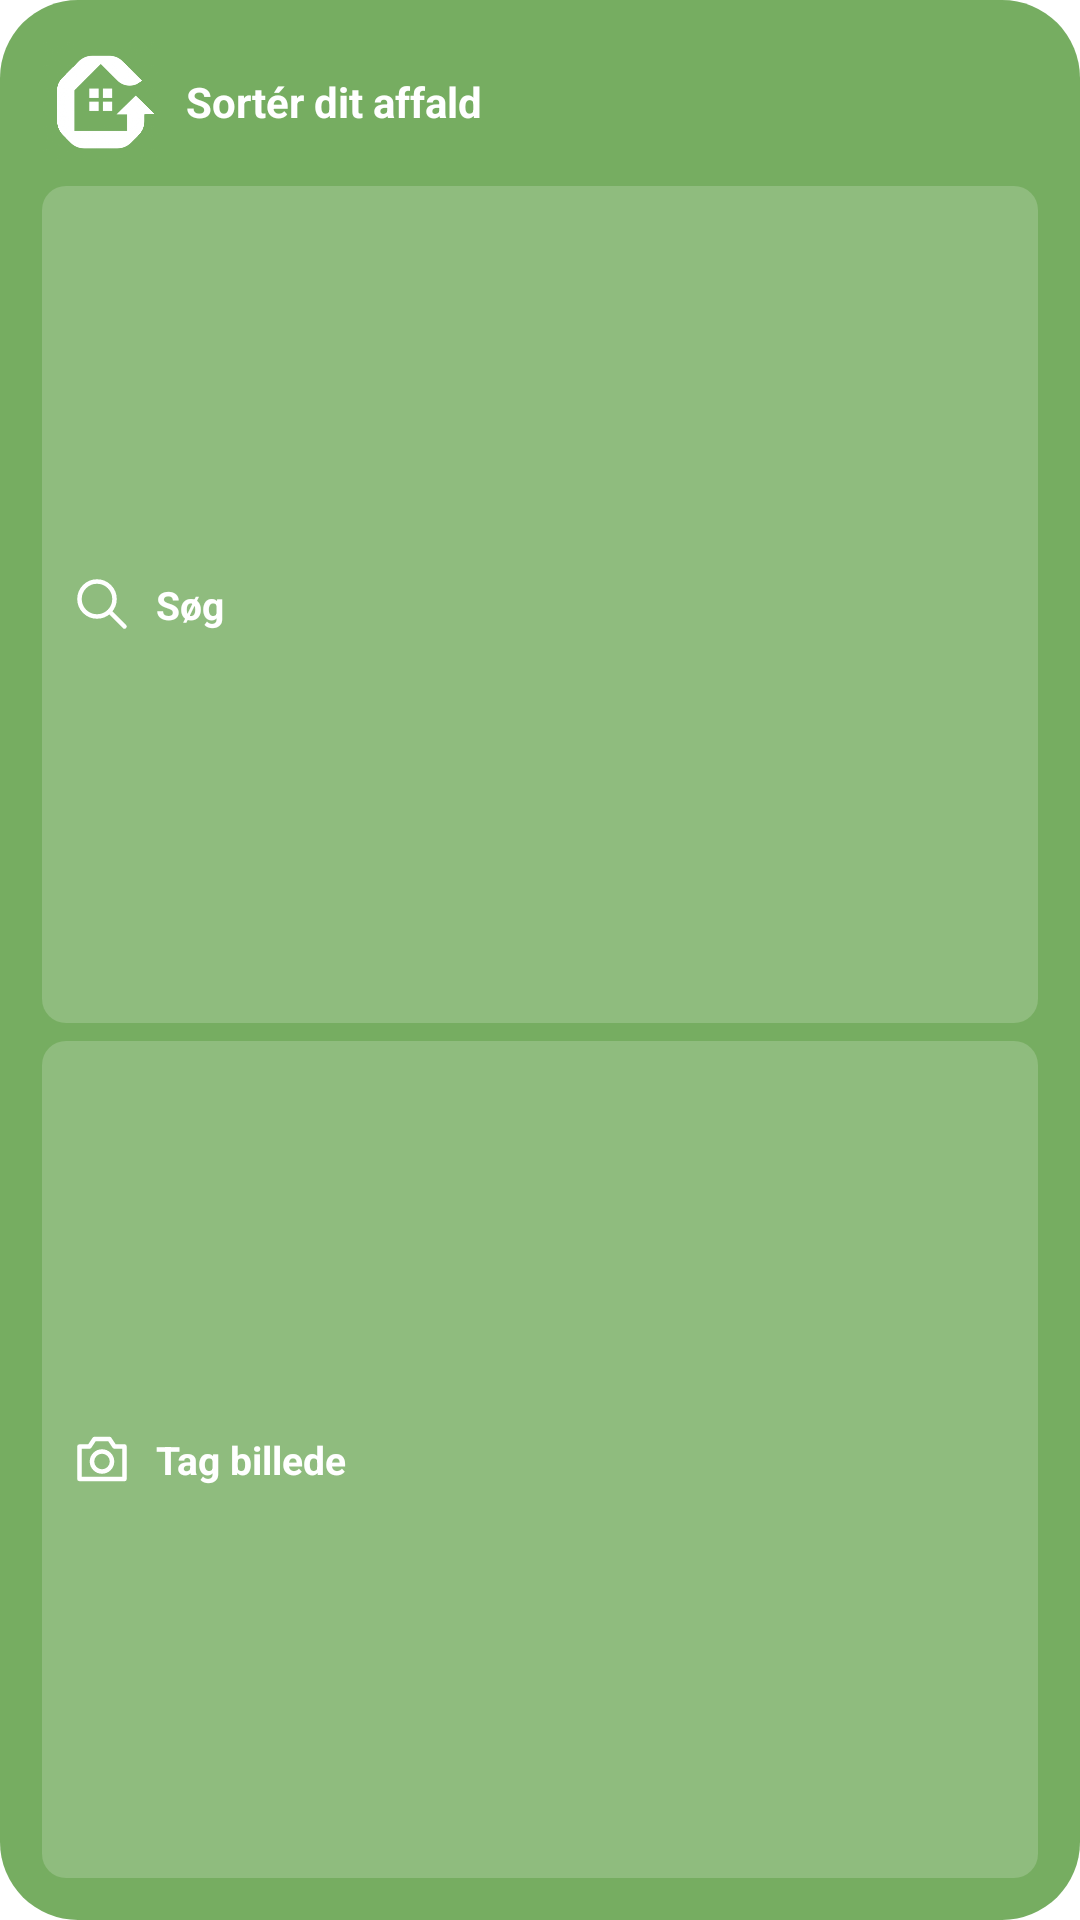

Screen size 1080 x 1920. Icon name, then its box in pixels as (x1, y1, x2, y2):
widget camera: (77, 1436, 127, 1482)
widget search: (77, 579, 127, 629)
